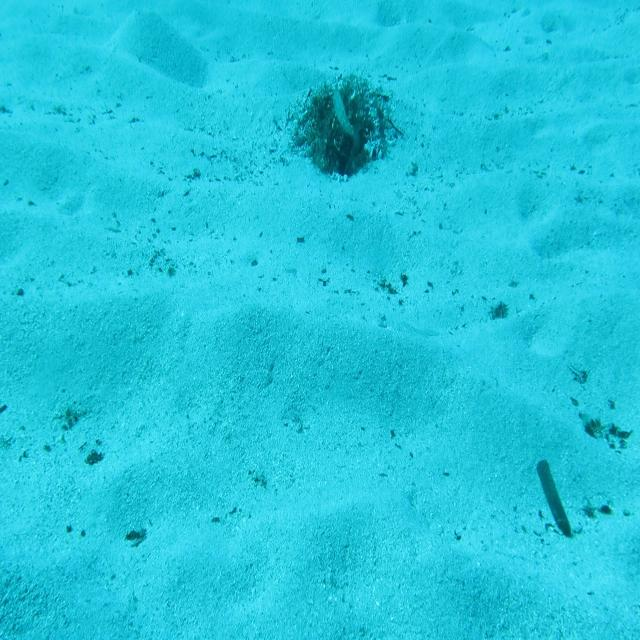INS: (326, 77, 358, 137)
nest: (299, 77, 413, 181)
vegetation: (536, 458, 571, 542), (579, 407, 629, 453), (482, 298, 511, 329)
